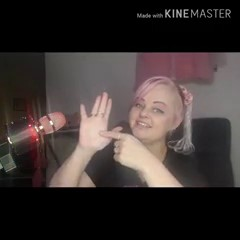J: (75, 89, 143, 176)
